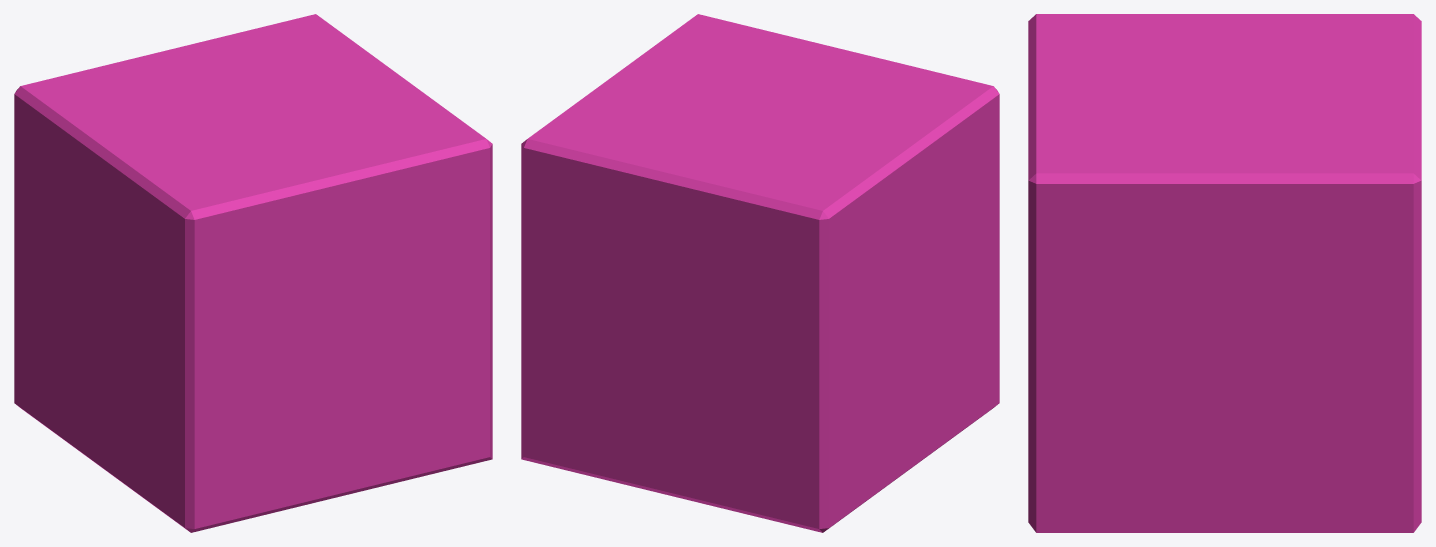
Rendered from MOb_LightBox_001_Red.fbx.
3 views of the same model, side by side, from view 1: azimuth 30°, elevation 25°; view 2: azimuth 150°, elevation 25°; view 3: azimuth 270°, elevation 25° (orthographic). The views are drawn at different scales.
Parts seen in each view (by area): view 1: MOb_Box_001_Red; view 2: MOb_Box_001_Red; view 3: MOb_Box_001_Red.
Part boxes in pixels (<box>): MOb_Box_001_Red: <box>14,14,492,532</box>; MOb_Box_001_Red: <box>521,14,999,532</box>; MOb_Box_001_Red: <box>1028,14,1421,532</box>.
Size of the model in its own units: 0.5 by 0.5 by 0.5.
